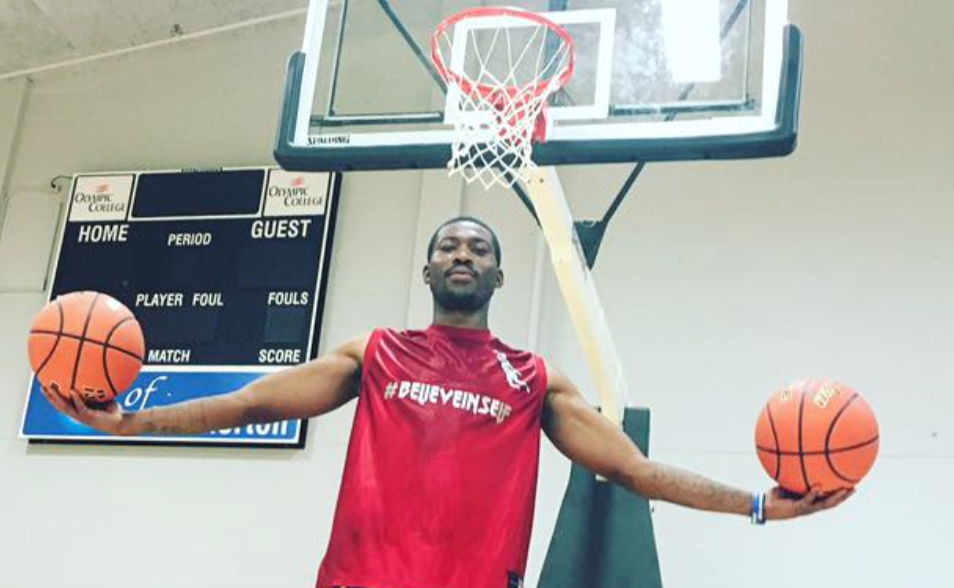ball: (754, 377, 880, 496), (27, 290, 145, 408)
basket: (423, 8, 586, 184)
player: (110, 215, 805, 588)
